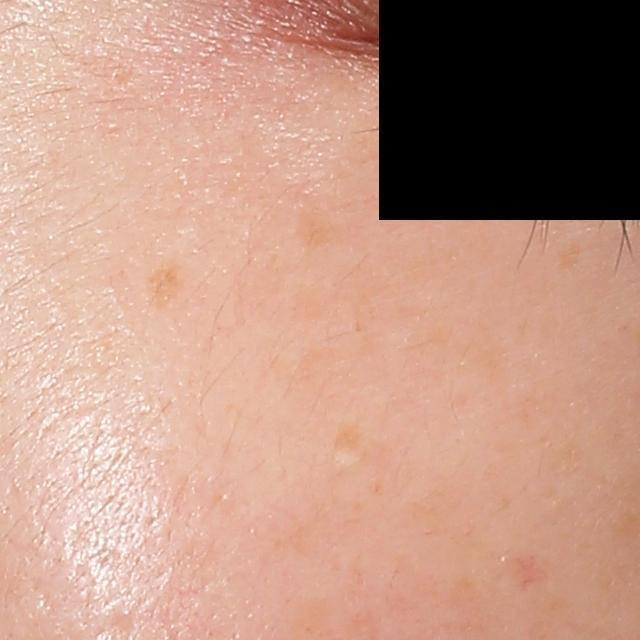melasma: (289, 199, 342, 256), (146, 259, 185, 308)
